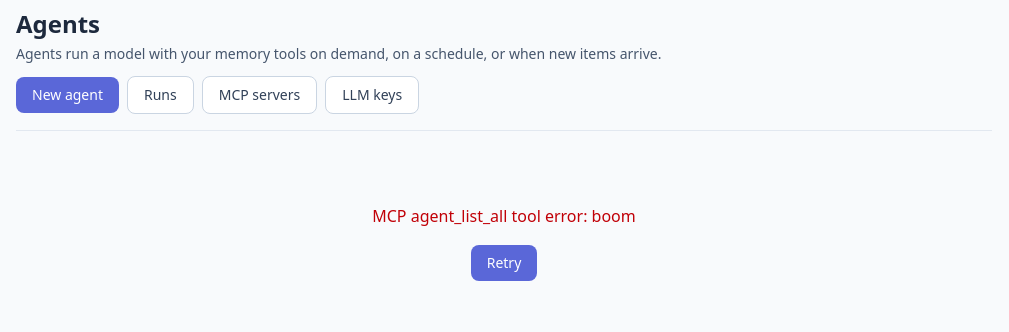
AgentsPage › retries a failed load
Expected: the text "MCP agent_list_all tool error: boom" is shown, [372, 205, 636, 227]
Click the button "Retry" at (504, 263), box [471, 245, 537, 281]
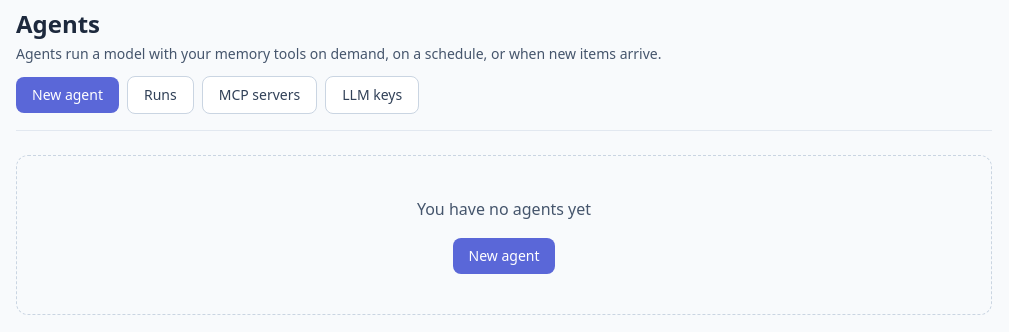
Expected: the text "You have no agents yet" is shown, [417, 198, 591, 220]
